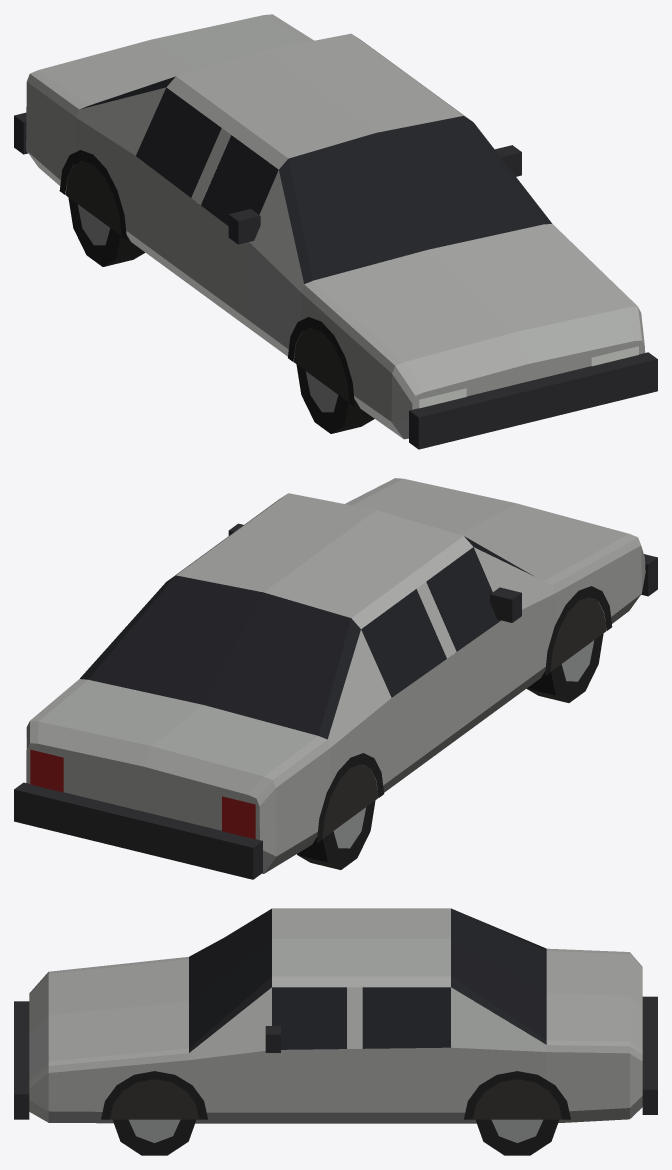
The model's file is town_car.gltf.
3 views of the same model, one above another, from view 1: azimuth 30°, elevation 25°; view 2: azimuth 150°, elevation 25°; view 3: azimuth 270°, elevation 25° (orthographic). The views are drawn at different scales.
Parts seen in each view (by area): view 1: TownCar_Body, TownCar_Glass, TownCar_Bumpers, TownCar_Arches, TownCar_Tyres, TownCar_Mirrors, TownCar_Rims, TownCar_Headlights; view 2: TownCar_Body, TownCar_Glass, TownCar_Bumpers, TownCar_Arches, TownCar_Tyres, TownCar_Taillights, TownCar_Rims, TownCar_Mirrors; view 3: TownCar_Body, TownCar_Glass, TownCar_Arches, TownCar_Bumpers, TownCar_Tyres, TownCar_Rims, TownCar_Mirrors.
Boxes of the visible parts, x1=… form: TownCar_Body: x1=26, y1=14, x2=645, y2=439; TownCar_Glass: x1=80, y1=76, x2=551, y2=283; TownCar_Bumpers: x1=14, y1=112, x2=657, y2=449; TownCar_Arches: x1=59, y1=150, x2=354, y2=406; TownCar_Tyres: x1=68, y1=197, x2=374, y2=433; TownCar_Mirrors: x1=228, y1=145, x2=521, y2=244; TownCar_Rims: x1=77, y1=204, x2=338, y2=412; TownCar_Headlights: x1=419, y1=346, x2=638, y2=408; TownCar_Body: x1=26, y1=478, x2=645, y2=873; TownCar_Glass: x1=80, y1=536, x2=533, y2=739; TownCar_Bumpers: x1=14, y1=554, x2=657, y2=879; TownCar_Arches: x1=316, y1=586, x2=612, y2=843; TownCar_Tyres: x1=297, y1=633, x2=603, y2=869; TownCar_Taillights: x1=30, y1=749, x2=255, y2=839; TownCar_Rims: x1=333, y1=640, x2=594, y2=848; TownCar_Mirrors: x1=228, y1=523, x2=521, y2=622; TownCar_Body: x1=29, y1=908, x2=642, y2=1123; TownCar_Glass: x1=189, y1=908, x2=546, y2=1052; TownCar_Arches: x1=101, y1=1071, x2=570, y2=1119; TownCar_Bumpers: x1=14, y1=996, x2=657, y2=1119; TownCar_Tyres: x1=113, y1=1119, x2=558, y2=1155; TownCar_Rims: x1=129, y1=1119, x2=542, y2=1142; TownCar_Mirrors: x1=265, y1=1026, x2=280, y2=1052.
Size of what is drawn, in the model's own units: 2.04 by 1.44 by 5.04.
1 material, 1 textured.
